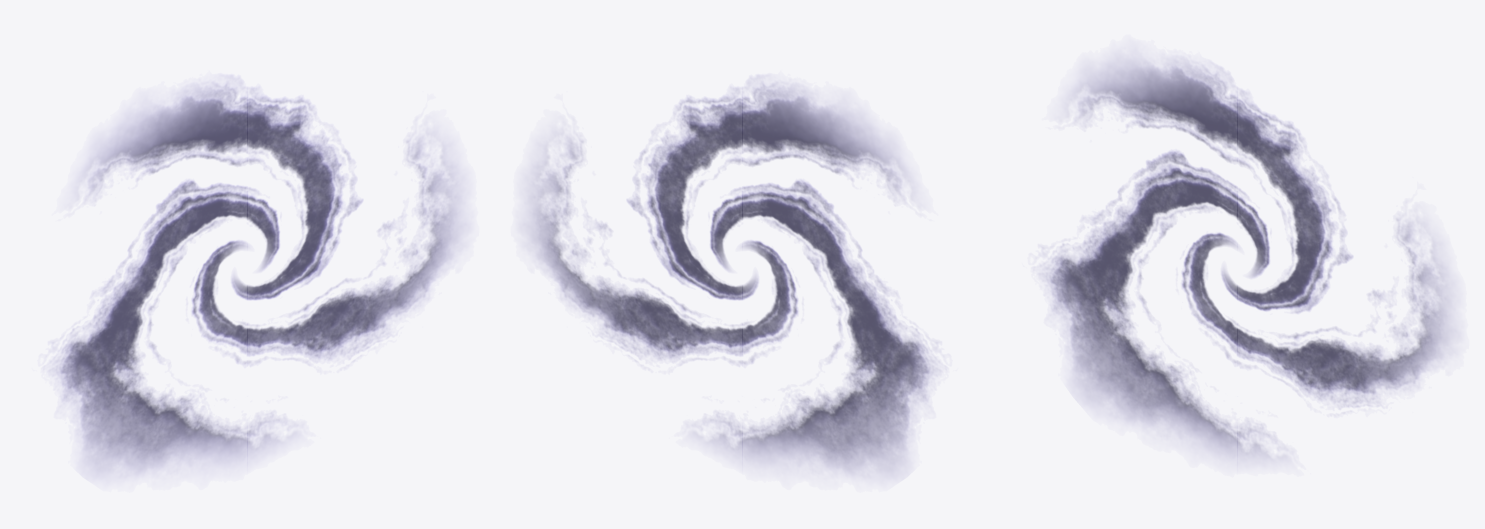
The model's file is sky_swirl_a.glb.
The picture shows the model from 3 angles, left to right: view 1: azimuth 30°, elevation 25°; view 2: azimuth 150°, elevation 25°; view 3: azimuth 330°, elevation 25°; orthographic projection.
Visible parts, largest first — view 1: sky_swirl_a; view 2: sky_swirl_a; view 3: sky_swirl_a.
Boxes of the visible parts, x1,y1,x2,y2 form: sky_swirl_a: (53,82,462,474); sky_swirl_a: (527,82,936,474); sky_swirl_a: (1043,60,1452,459).
Bounding box in the file's own units: 2 × 2 × 0.
1 material, 1 textured.
